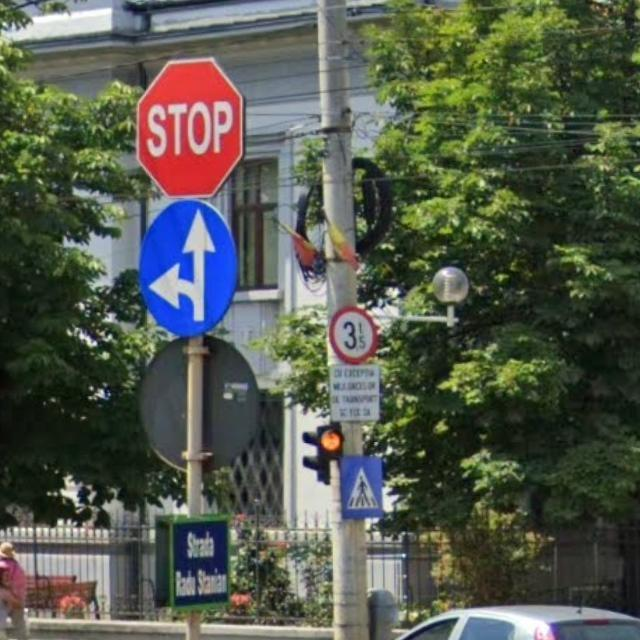info_crosswalk: (338, 454, 386, 521)
prio_stop: (138, 57, 248, 200)
